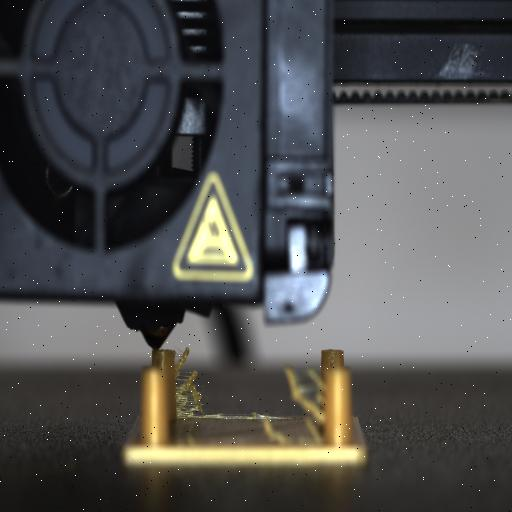stringing: (170, 349, 320, 432)
